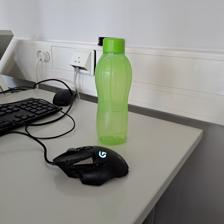bottle: (94, 37, 132, 145)
mouse: (52, 145, 129, 187)
